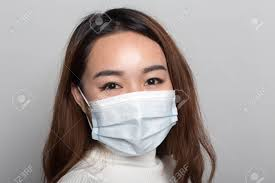with-mask: (67, 9, 184, 156)
